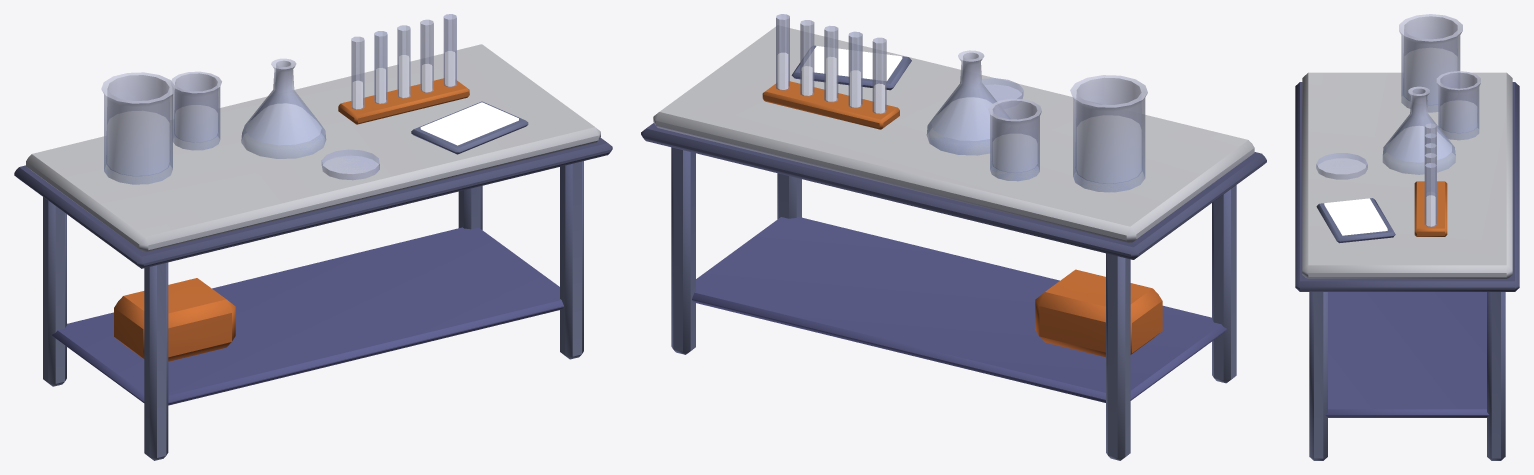
Rendered from hub_prop_lab_table.glb.
3 renders of one model, left to right at view 1: azimuth 30°, elevation 25°; view 2: azimuth 150°, elevation 25°; view 3: azimuth 270°, elevation 25°, orthographic. The views are drawn at different scales.
Visible parts, largest first — view 1: hub_prop_lab_table; view 2: hub_prop_lab_table; view 3: hub_prop_lab_table.
Part boxes in pixels (x1,y1,x2,y2): hub_prop_lab_table: [14, 14, 612, 460]; hub_prop_lab_table: [641, 14, 1266, 460]; hub_prop_lab_table: [1295, 14, 1519, 460].
Size of the model in its own units: 2.06 by 1.29 by 0.96.
